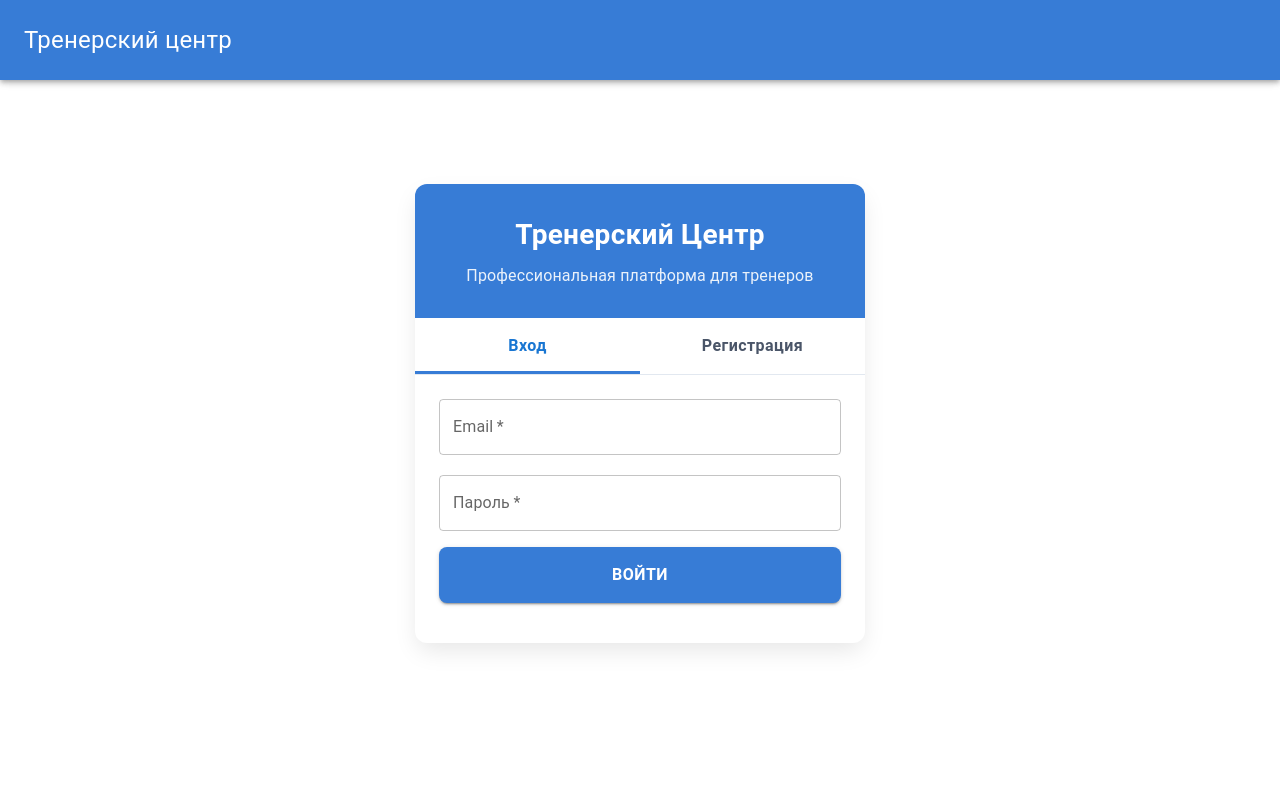
it: AuthPage › ошибка login показывает snackbar
The width and height of the screenshot is (1280, 800).
In the field labelled "Email *": coordinates (640, 427) left=439, top=399, right=841, bottom=455, type "test@mail.com"
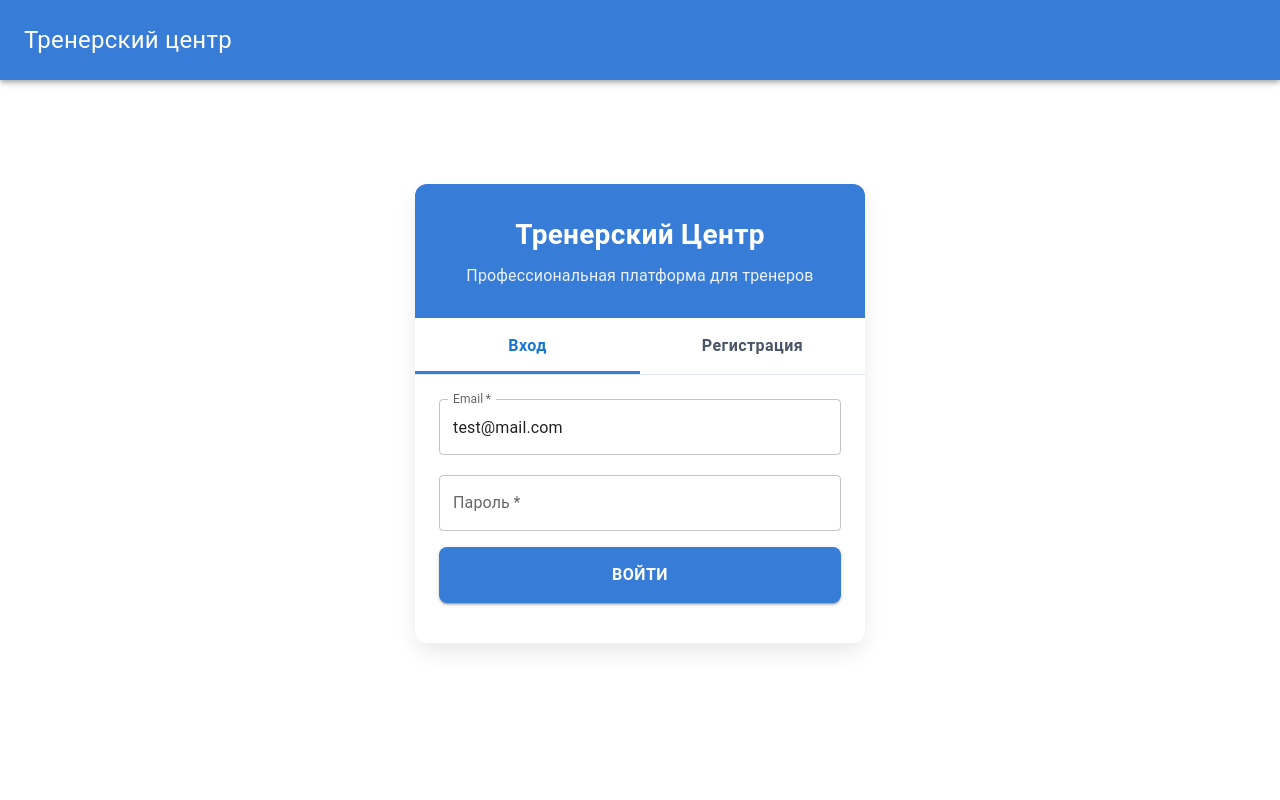
In the password field labelled "Пароль *": coordinates (640, 503) left=439, top=475, right=841, bottom=531, type "12345678"
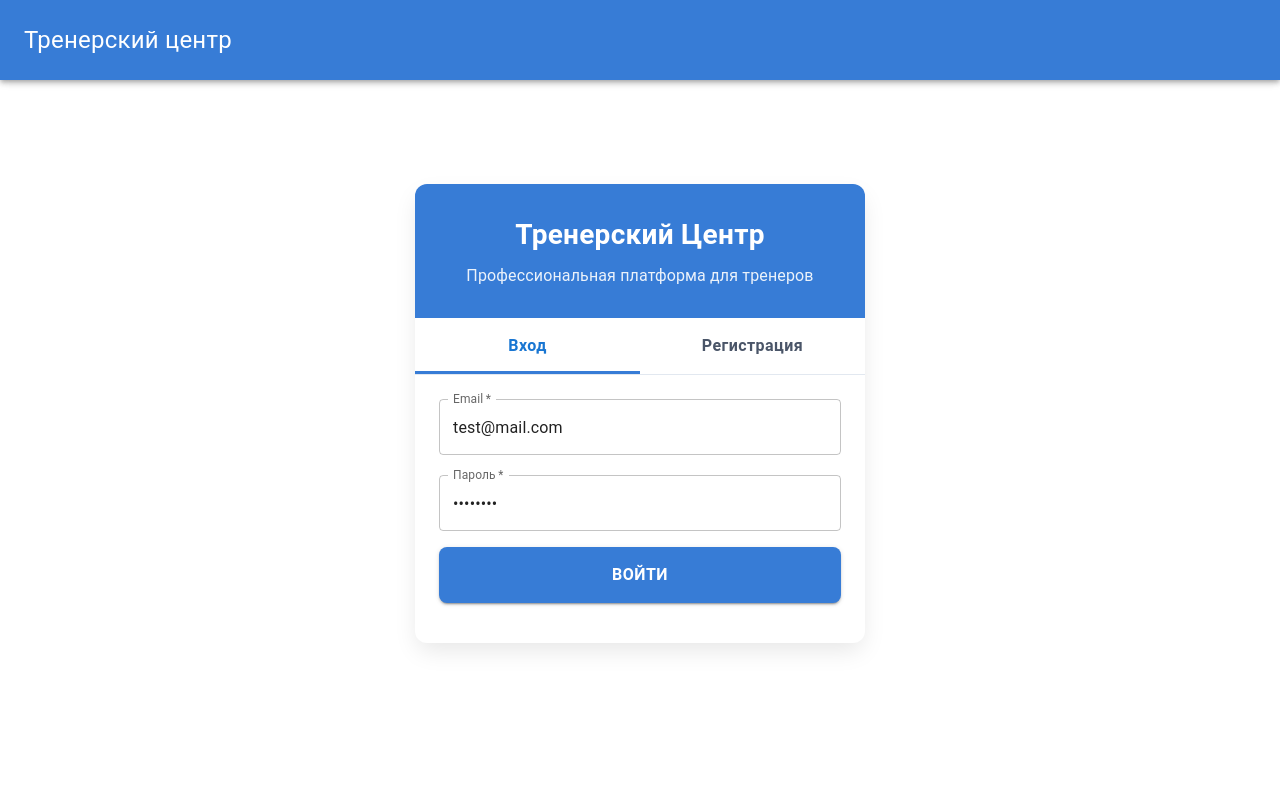
Click the button "Войти": coordinates (640, 575) left=439, top=547, right=841, bottom=603
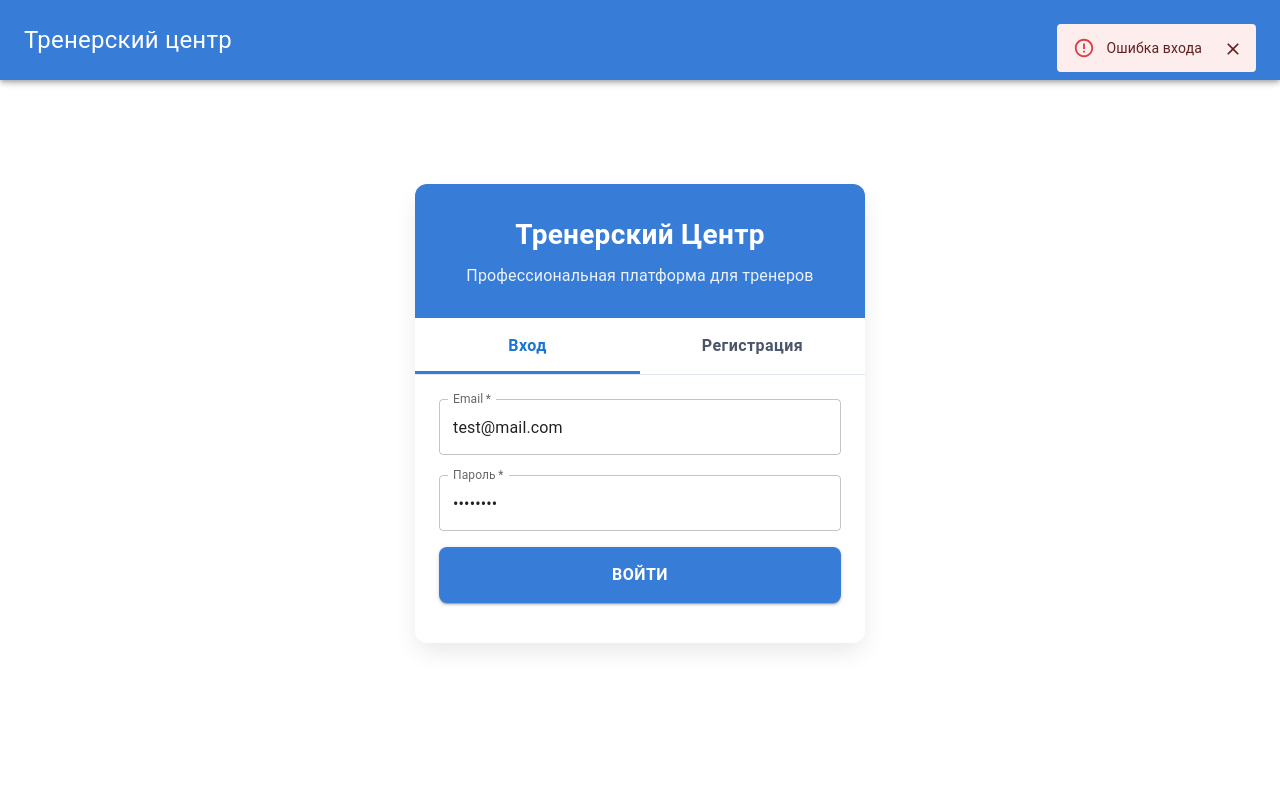
Result: the text "Ошибка входа" is shown at left=1106, top=40, right=1202, bottom=56
